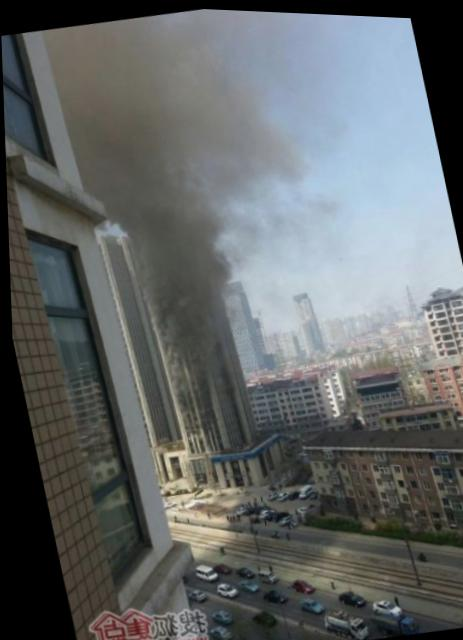smoke: (37, 1, 334, 212), (126, 188, 251, 372)
